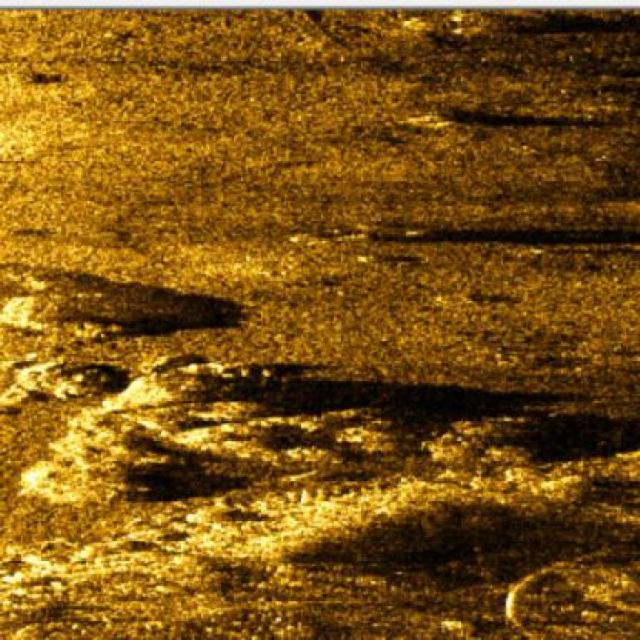bedrock group: (4, 287, 639, 638)
